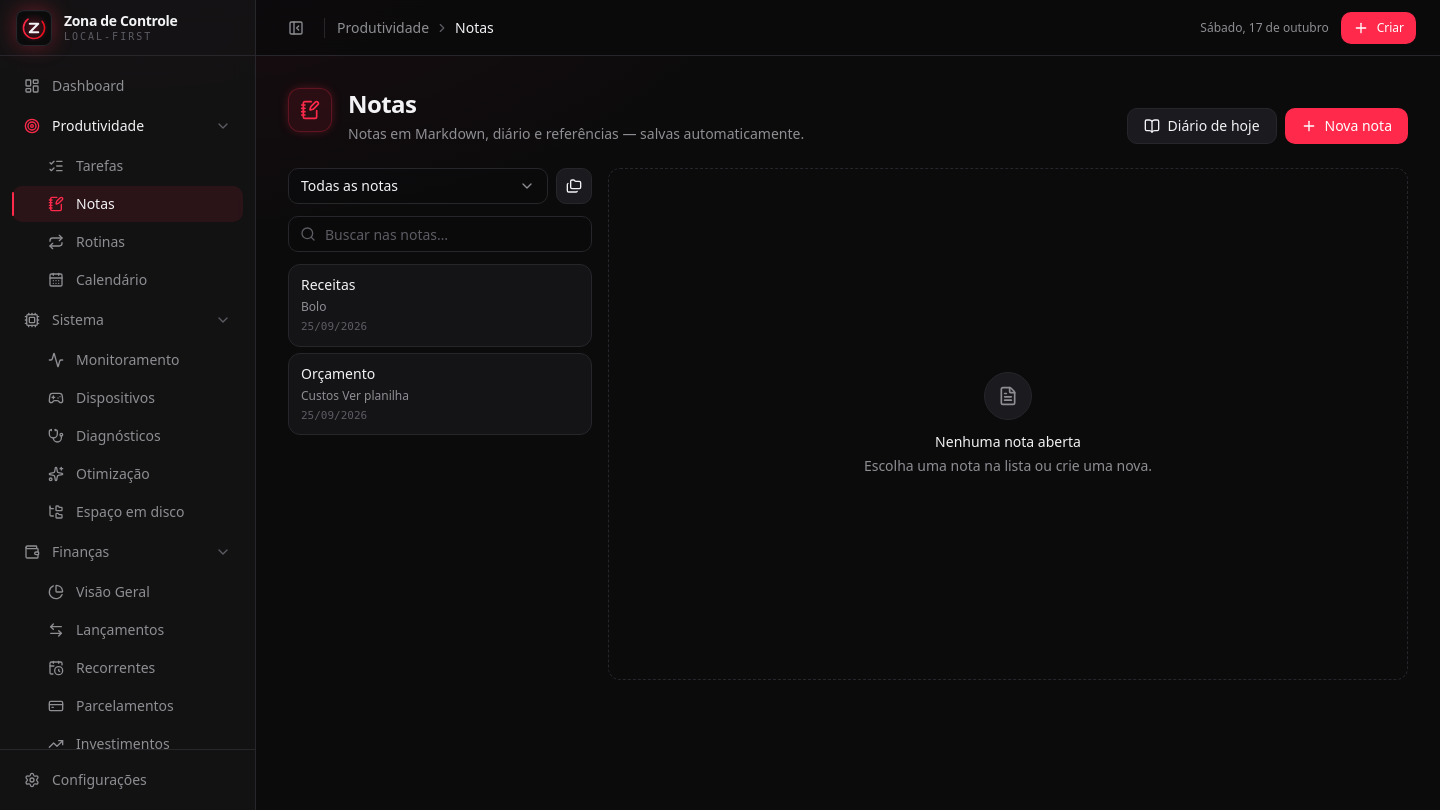
Test: página de Notas › busca sem acentos e mostra a pré-visualização do Markdown
Type "orcamento" into the field named "Buscar notas" at (440, 234), box top-left (288, 216), bottom-right (592, 252)
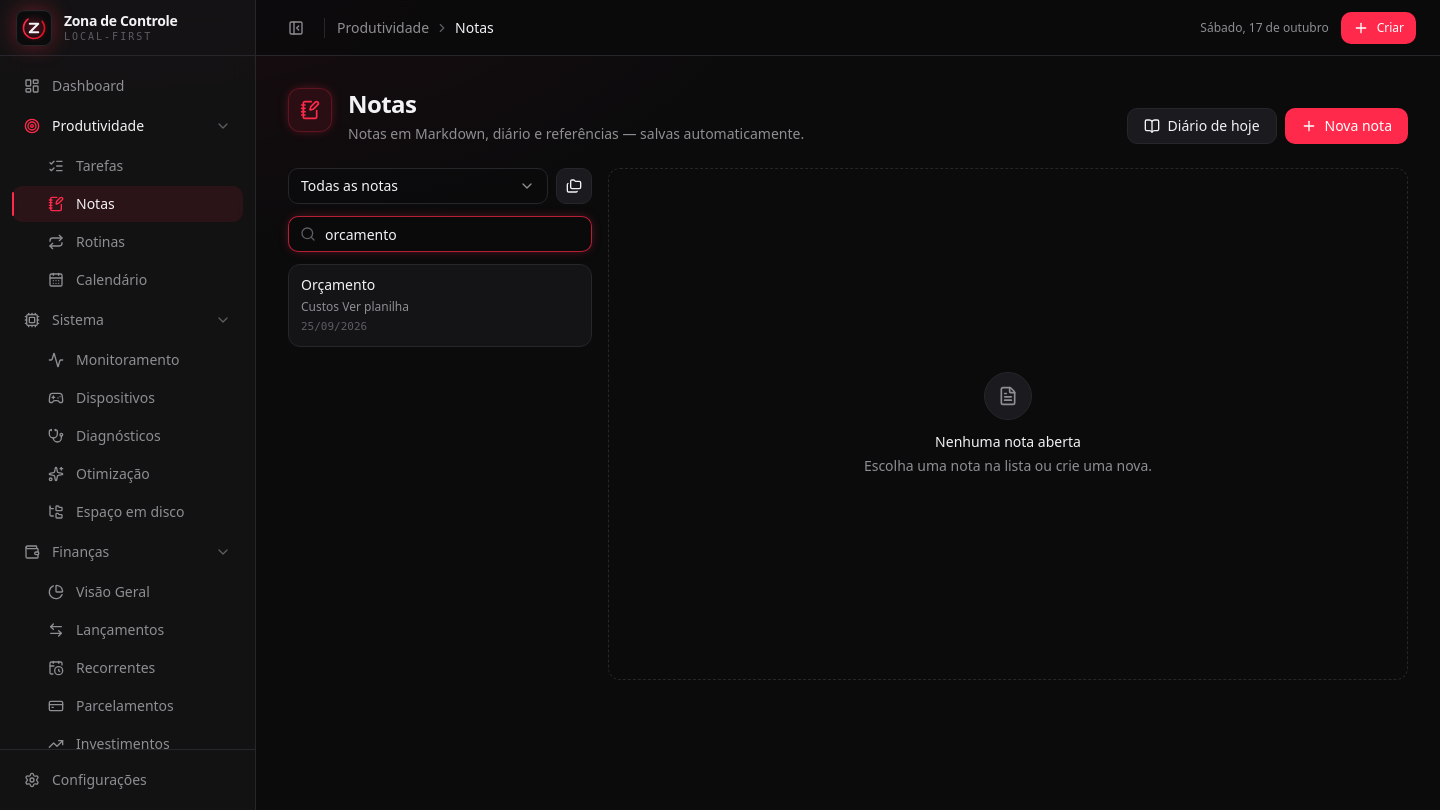
Expected: the button "Receitas" is gone
Click the text "Orçamento" at (338, 285), box top-left (301, 275), bottom-right (375, 295)
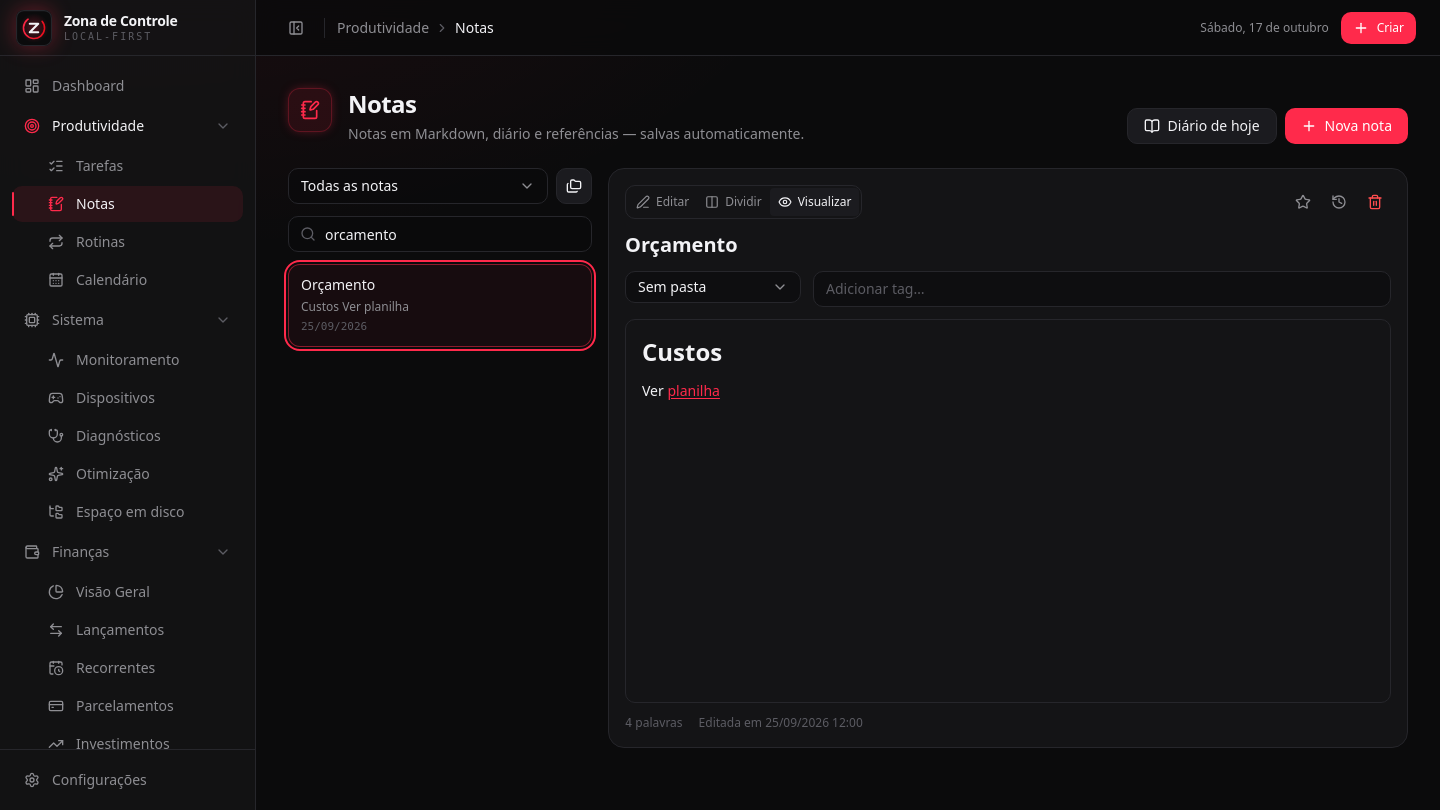
Expected: the heading "Custos" is shown, top-left (642, 335), bottom-right (722, 368)
